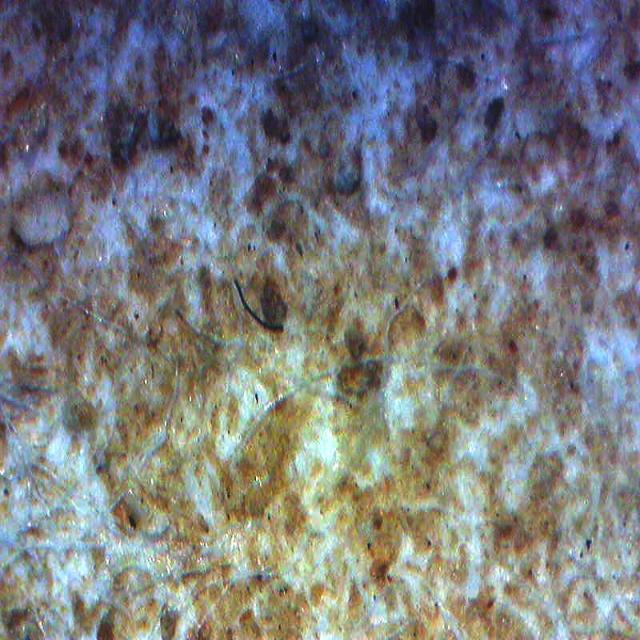microplastic: (226, 279, 287, 340)
